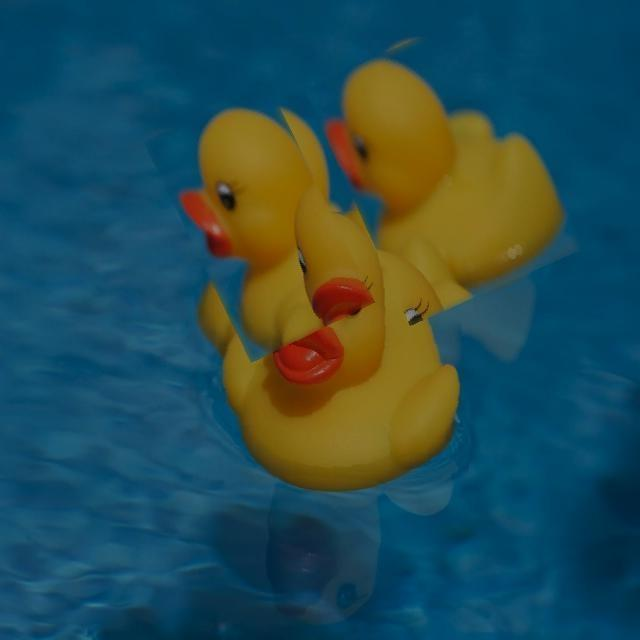rubber-duck: (199, 187, 457, 488), (327, 59, 561, 305), (180, 108, 322, 347)
